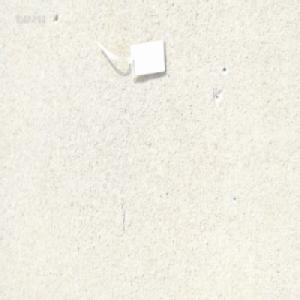LuggageTag: (94, 35, 167, 82)
